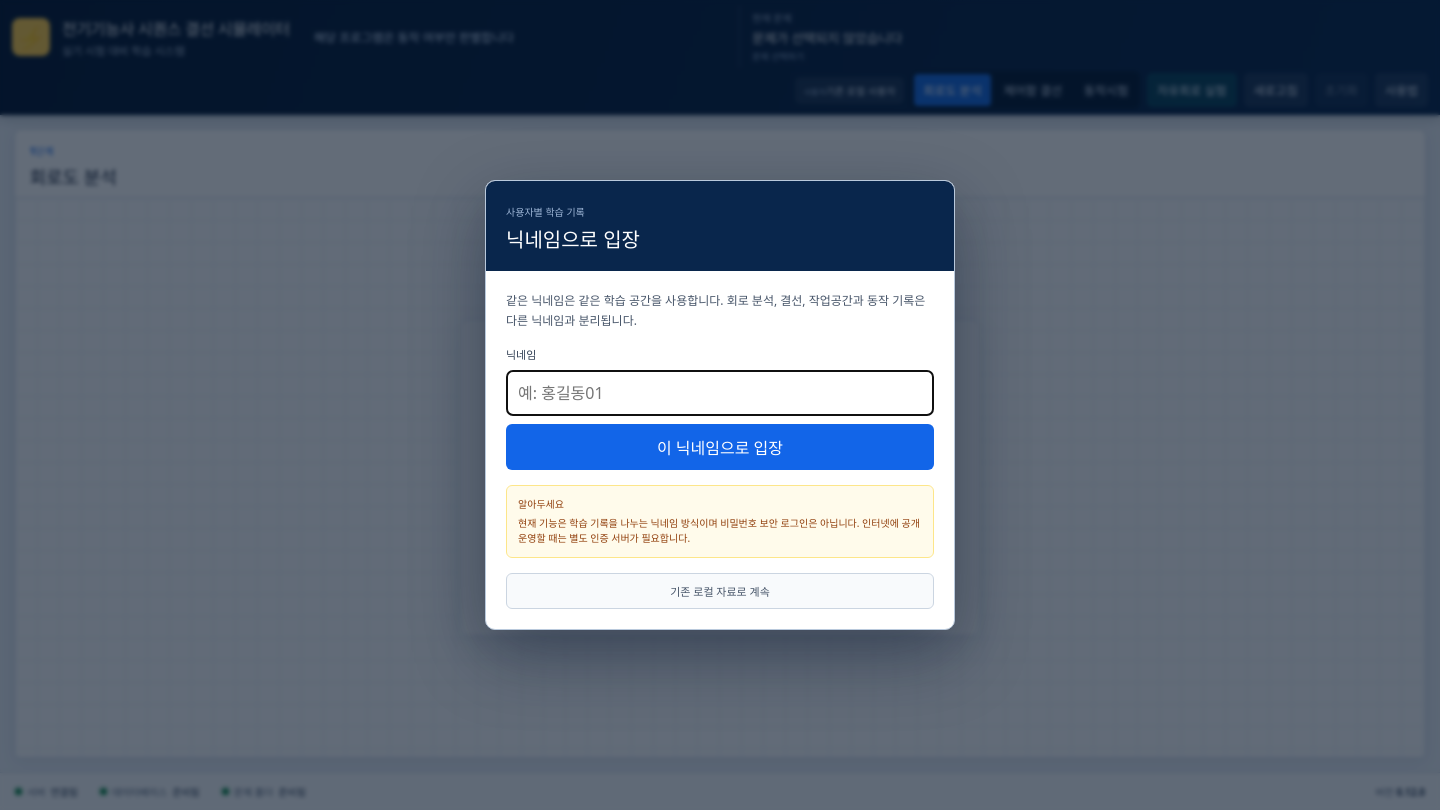
Test case: App › separates study records through a nickname entry
This screenshot has width=1440, height=810.
Type "학생 01" into the field labelled "닉네임" at (720, 393), box [506,370,934,416]
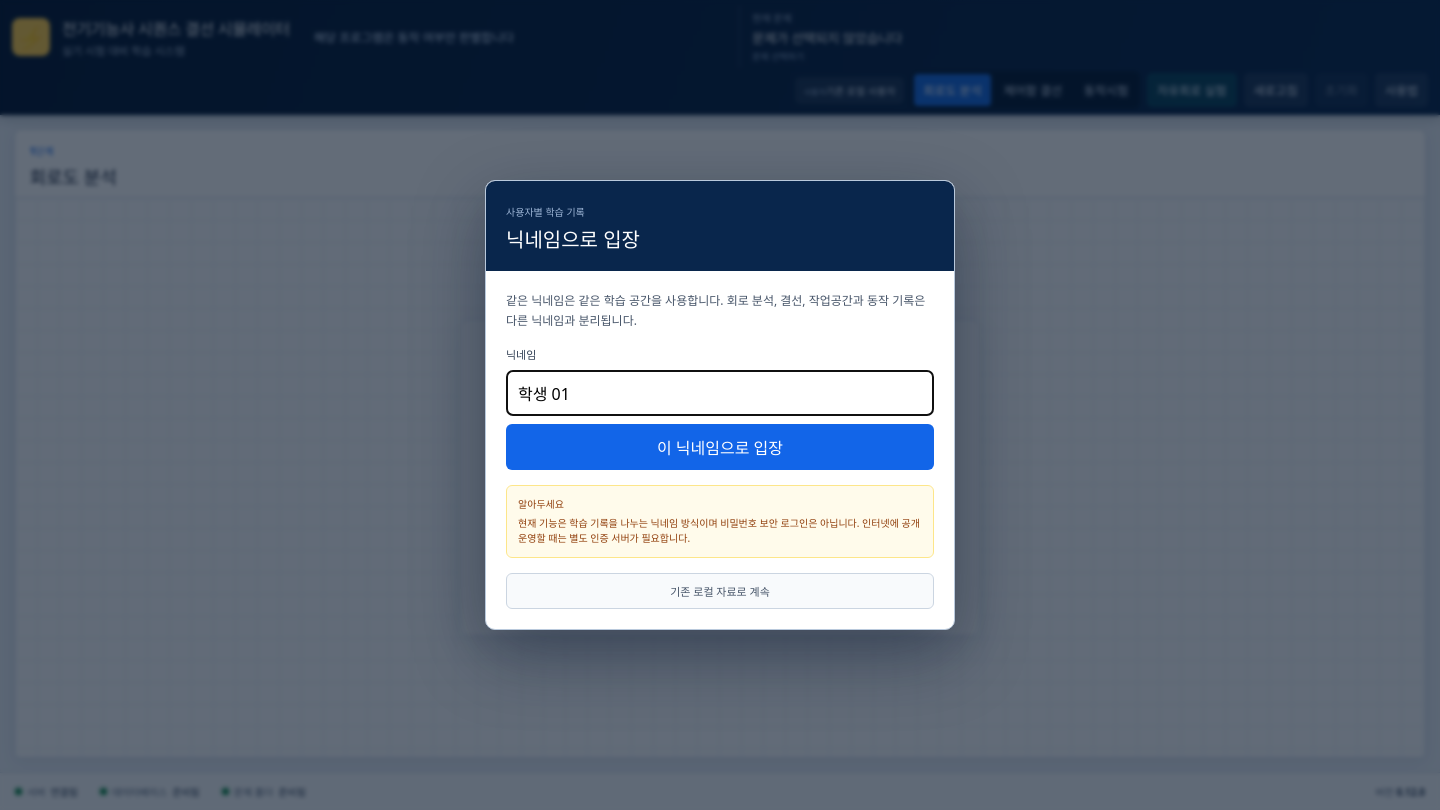
Click the button "이 닉네임으로 입장" at (720, 447), box [506,424,934,470]
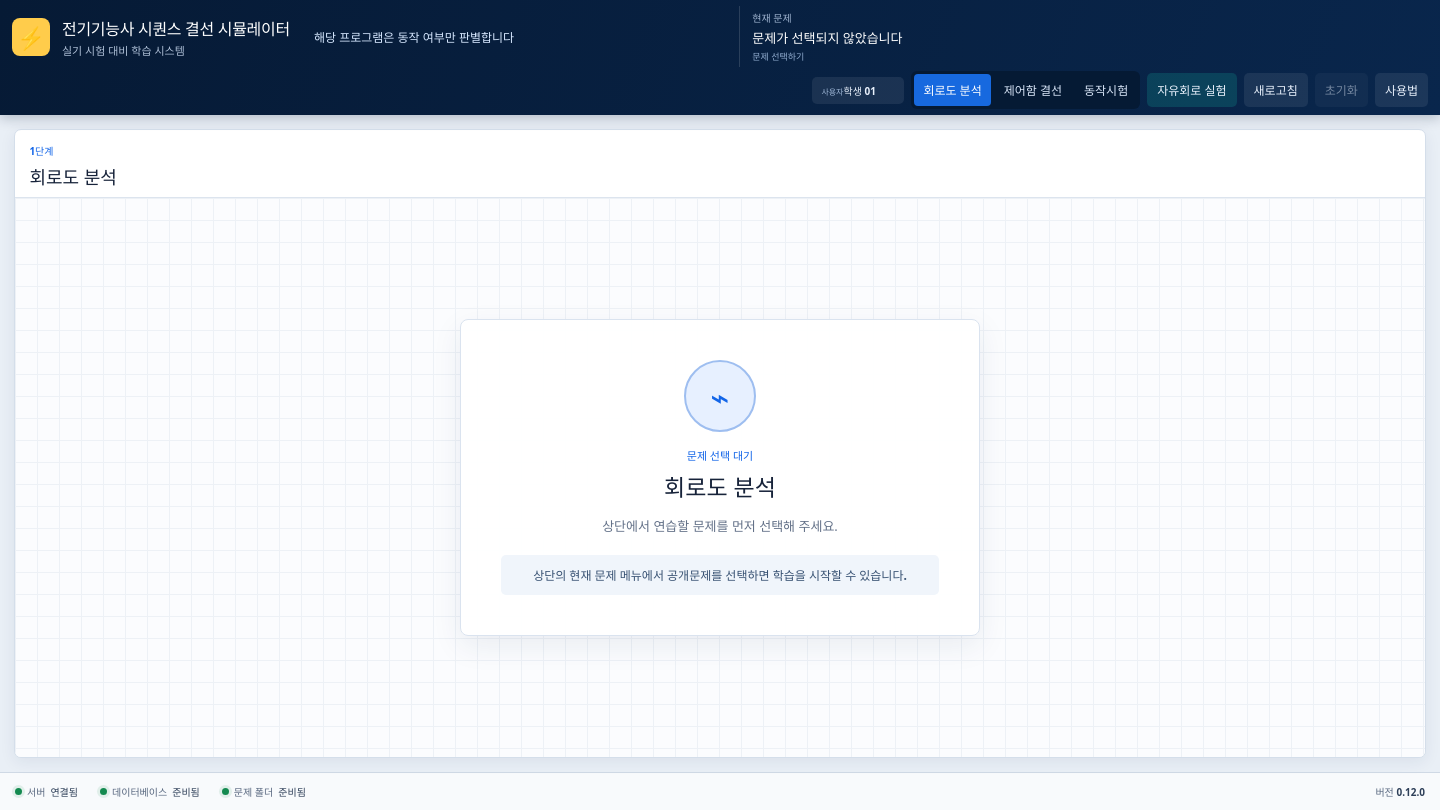
Result: the text "학생 01" is shown at [844,84,876,98]
